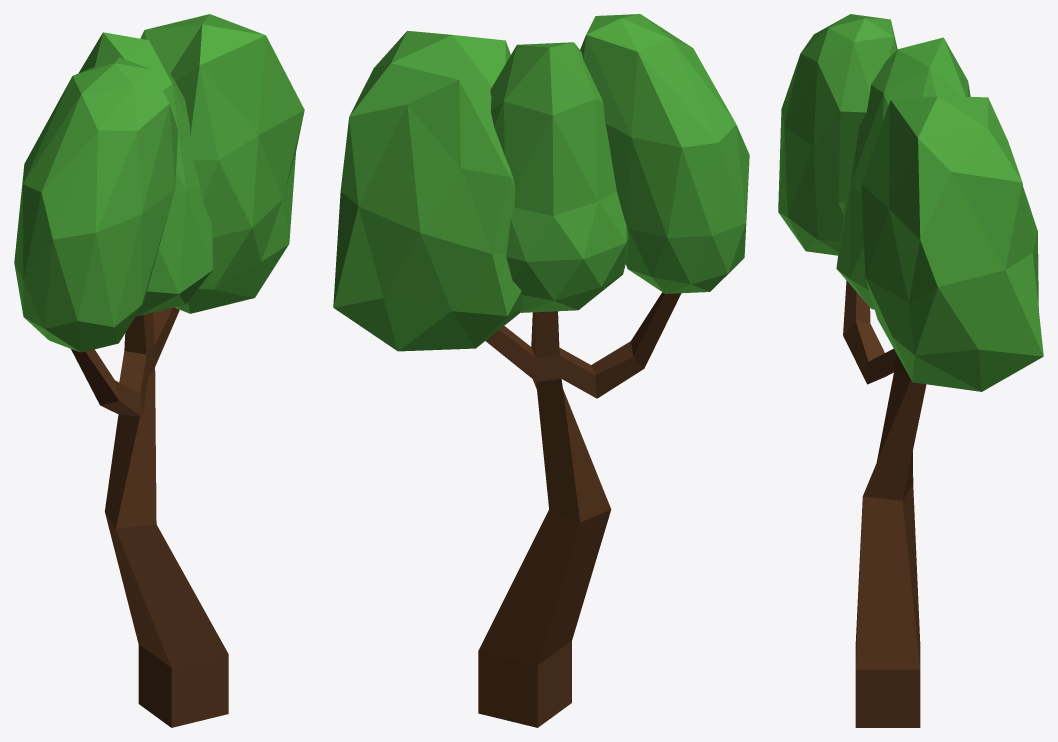
Rendered from GrasslandsTreeType6.fbx.
3 views of the same model, side by side, from view 1: azimuth 30°, elevation 25°; view 2: azimuth 150°, elevation 25°; view 3: azimuth 270°, elevation 25° (orthographic). The views are drawn at different scales.
Visible parts, largest first — view 1: GrasslandsTreeType6; view 2: GrasslandsTreeType6; view 3: GrasslandsTreeType6.
Part boxes in pixels (bbox=[...]): GrasslandsTreeType6: bbox=[14, 14, 304, 727]; GrasslandsTreeType6: bbox=[333, 14, 749, 727]; GrasslandsTreeType6: bbox=[778, 14, 1043, 727].
Bounding box in the file's own units: 3.06 × 6.08 × 2.23.
